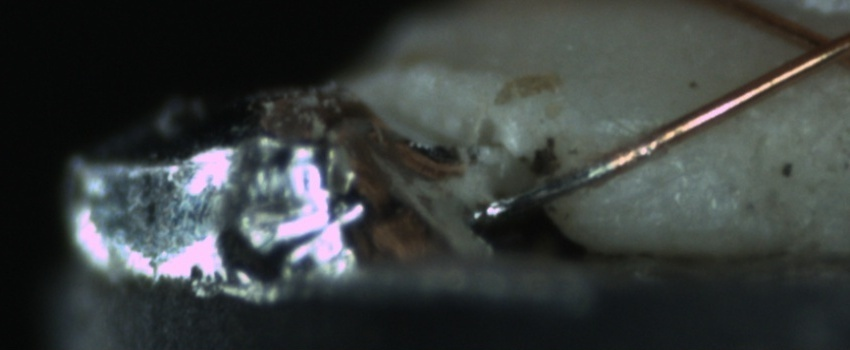CL: (778, 15, 850, 77)
TS: (475, 157, 616, 223)
